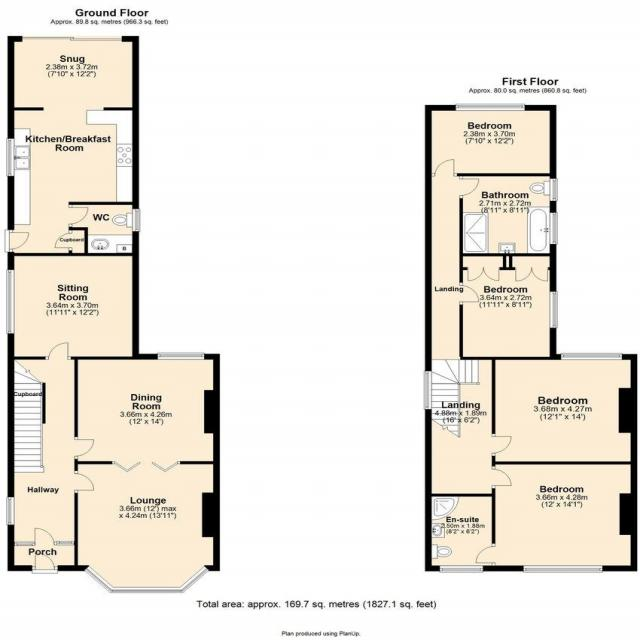DOOR: (32, 551, 56, 572), (72, 438, 97, 458), (33, 526, 56, 547), (7, 231, 31, 251), (72, 472, 97, 491), (67, 206, 90, 226), (47, 341, 70, 361), (53, 231, 73, 249)
WINDOW: (82, 564, 114, 594), (179, 564, 210, 594), (5, 269, 17, 335), (110, 585, 184, 595), (157, 351, 206, 361), (5, 138, 16, 177), (5, 496, 16, 526), (131, 208, 142, 233), (14, 540, 34, 548), (56, 539, 74, 546)
